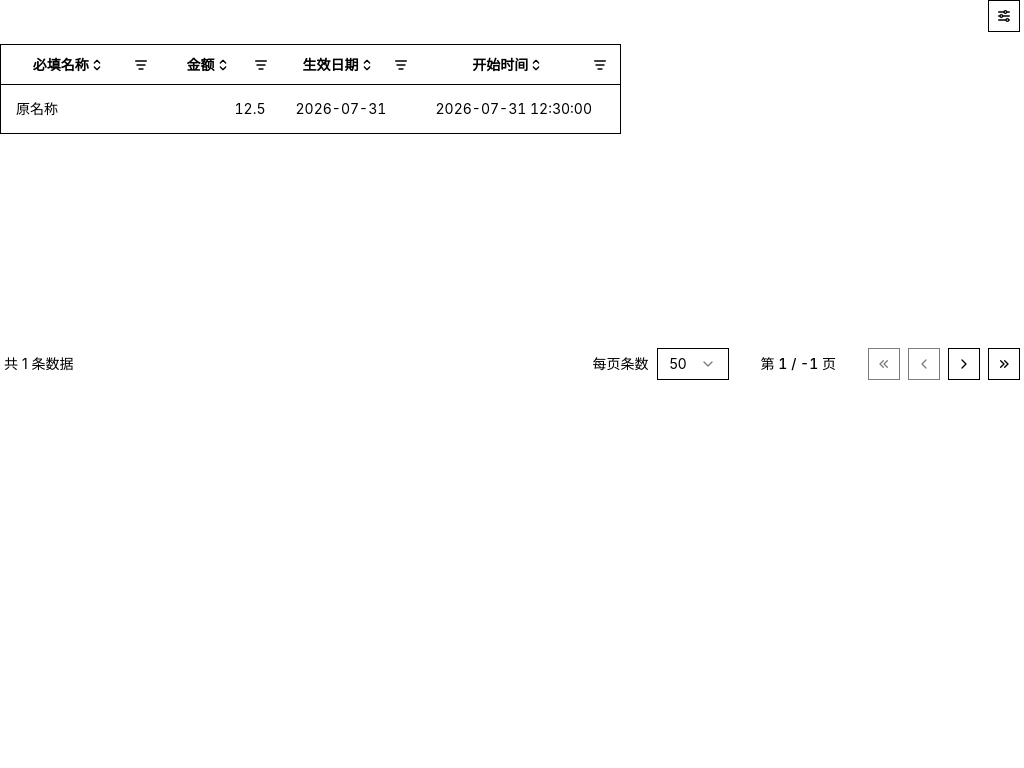
Test: DataTable cell selection › validates a printable startsAt draft without restoring the removed full-text input
The width and height of the screenshot is (1024, 768).
Click the cell "2026-07-31 12:30:00": (520, 109) [420, 85, 620, 133]
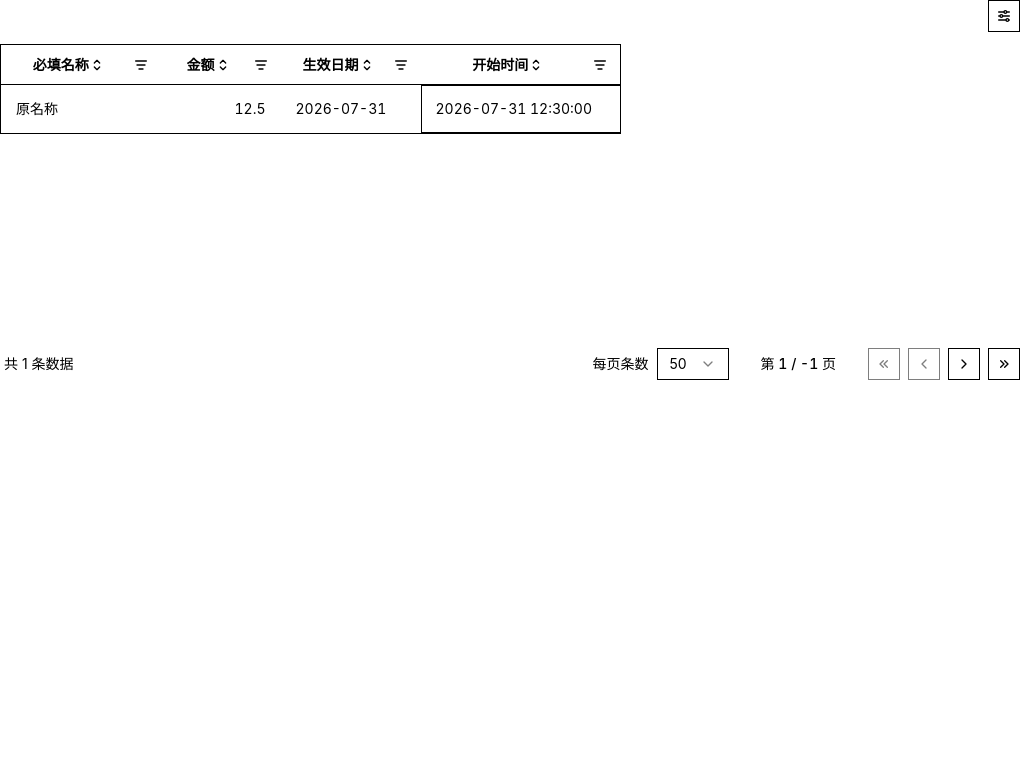
Press 2 in the cell "2026-07-31 12:30:00", box [420, 85, 620, 133]
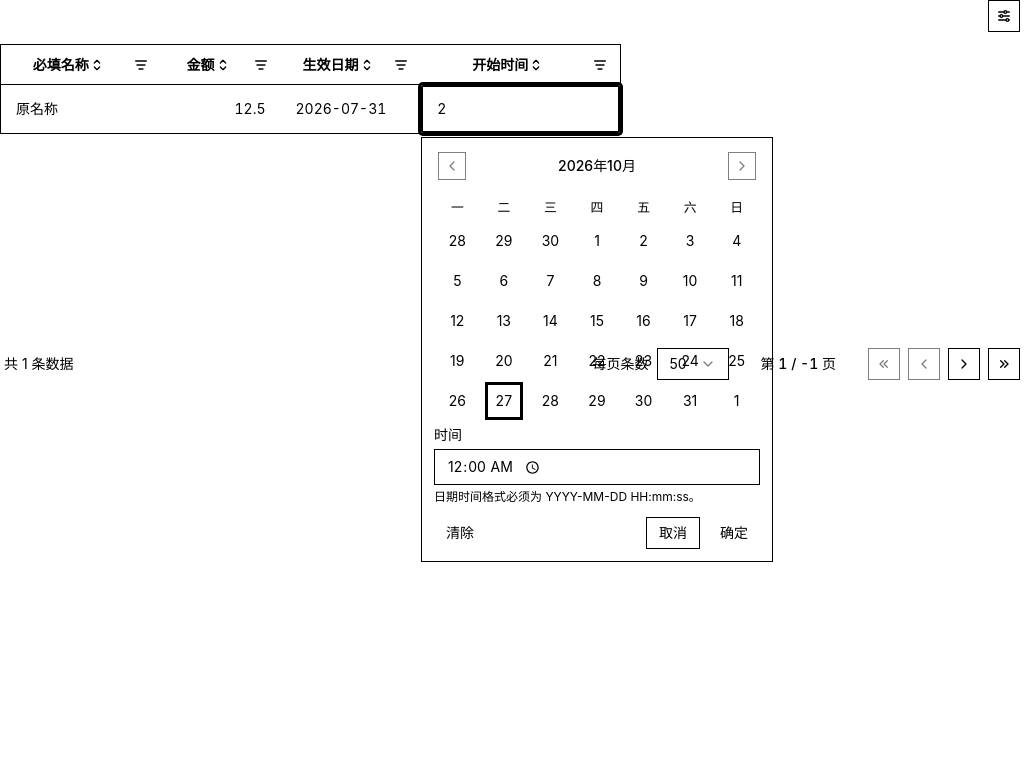
Now the dialog named "开始时间日期时间编辑器" is shown, box [421, 137, 773, 562]
Now the message reads "日期时间格式必须为 YYYY-MM-DD HH:mm:ss。", box [434, 489, 701, 504]
